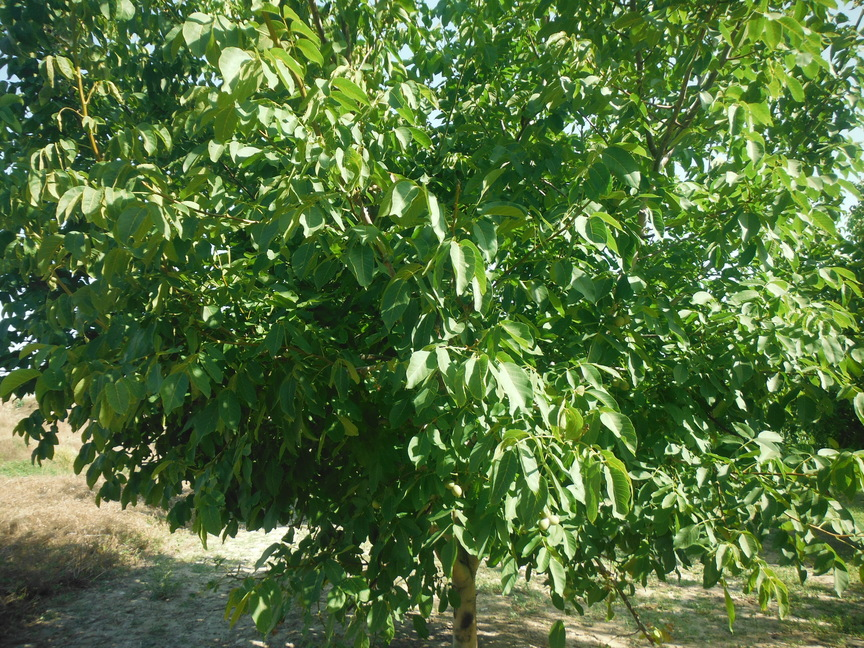walnut: (368, 495, 383, 511), (450, 483, 465, 499), (607, 374, 624, 388), (538, 504, 553, 519), (441, 475, 457, 489), (537, 517, 550, 534), (611, 314, 625, 329), (549, 514, 562, 528), (559, 585, 573, 598), (619, 378, 631, 393), (623, 311, 634, 325), (571, 588, 578, 594)
